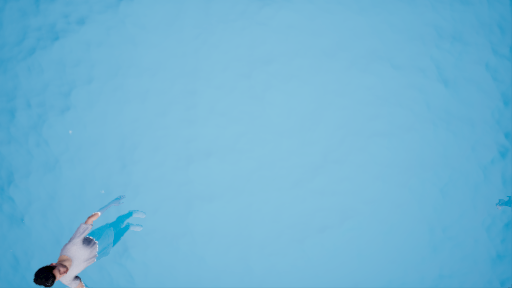person: (35, 187, 162, 285)
